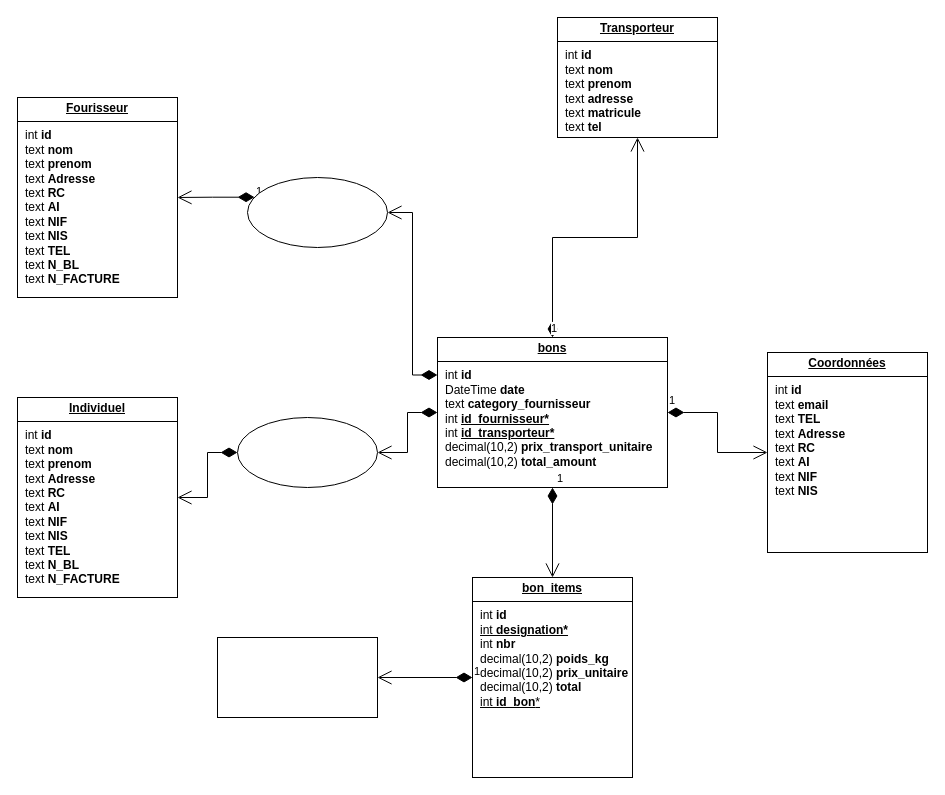
Image size: 945x795. Some labels were removed from this diagram. Here are the shapes that lost their labels. From the top down, the box of each, then its label:
(246, 176, 388, 248): if(category_fournisseur= "fournisseur")
(236, 416, 378, 488): if(category_fournisseur= "individuel")
(216, 636, 378, 718): produit int id text designation
